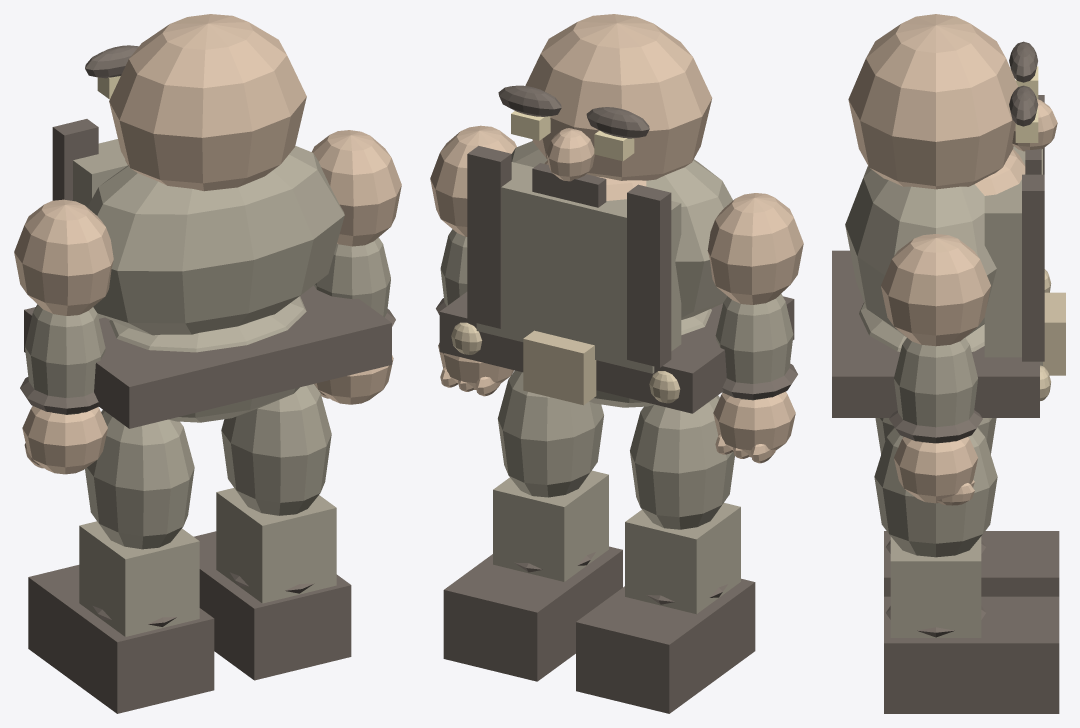
File: adventurer.gltf
The picture shows the model from 3 angles, left to right: view 1: azimuth 30°, elevation 25°; view 2: azimuth 150°, elevation 25°; view 3: azimuth 270°, elevation 25°; orthographic projection. The views are drawn at different scales.
Visible parts, largest first — view 1: Part2, Part6, Part4, Part19, Part31, Part17, Part29, Part30, Part18, Part14, Part26, Part15 (+8 smaller); view 2: Part3, Part6, Part19, Part31, Part17, Part18, Part30, Part29, Part4, Part14, Part38, Part2 (+18 smaller); view 3: Part6, Part31, Part4, Part2, Part26, Part29, Part30, Part27, Part3, Part19, Part40, Part28 (+11 smaller).
Part boxes in pixels (box(x1,y1,x2,y2)): Part2: box(87, 146, 344, 335); Part6: box(109, 14, 306, 191); Part4: box(24, 285, 391, 428); Part19: box(28, 565, 214, 713); Part31: box(194, 531, 351, 680); Part17: box(85, 410, 194, 549); Part29: box(221, 384, 331, 515); Part30: box(216, 488, 336, 603); Part18: box(79, 521, 199, 636); Part14: box(14, 199, 113, 315); Part26: box(312, 130, 401, 246); Part15: box(25, 304, 105, 414); Part3: box(476, 162, 681, 373); Part6: box(525, 14, 712, 180); Part19: box(576, 578, 755, 713); Part31: box(443, 546, 622, 681); Part17: box(630, 395, 734, 529); Part18: box(625, 503, 740, 614); Part30: box(493, 470, 608, 581); Part29: box(497, 370, 603, 497); Part4: box(439, 292, 794, 413); Part14: box(707, 193, 803, 304); Part38: box(627, 184, 671, 367); Part2: box(511, 141, 732, 319); Part6: box(848, 14, 1017, 189); Part31: box(884, 596, 1059, 713); Part4: box(832, 250, 1039, 417); Part2: box(845, 166, 996, 337); Part26: box(881, 234, 990, 346); Part29: box(874, 427, 997, 557); Part30: box(890, 536, 981, 637); Part27: box(894, 337, 977, 443); Part3: box(984, 146, 1042, 365); Part19: box(884, 531, 1059, 596); Part40: box(1022, 174, 1044, 361); Part28: box(894, 436, 977, 503).
Bounding box in the file's own units: 0.65 × 1.08 × 0.36.
